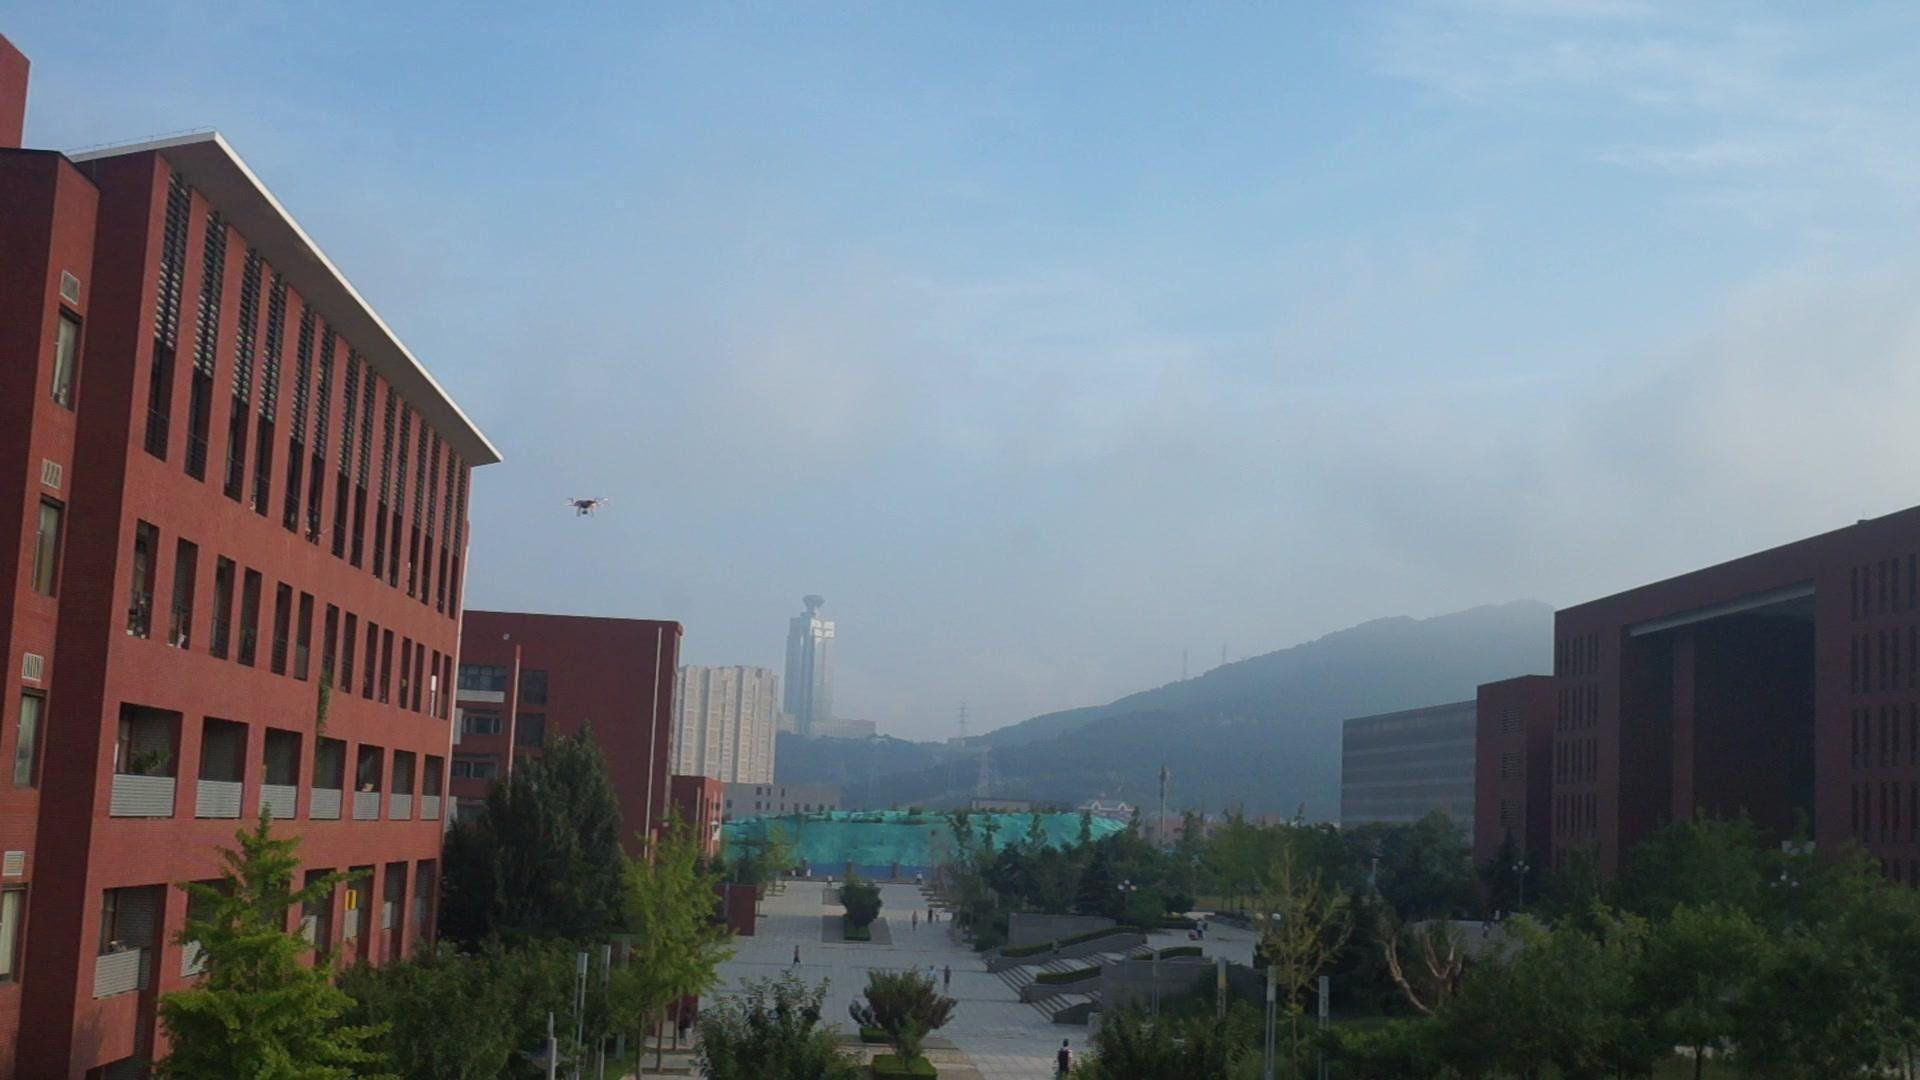UAV: (566, 497, 609, 520)
